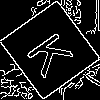K: (24, 25, 83, 79)
